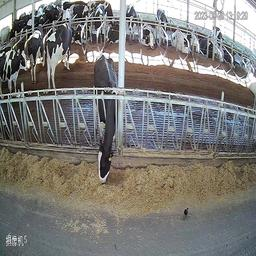cow: (93, 52, 119, 185), (46, 21, 73, 91), (1, 48, 26, 94), (26, 23, 45, 83), (170, 28, 198, 54), (87, 2, 113, 23), (155, 6, 168, 45), (140, 21, 155, 50), (126, 3, 137, 42), (211, 23, 224, 52), (198, 35, 213, 59), (106, 22, 119, 47), (73, 23, 87, 46), (63, 5, 73, 27)
